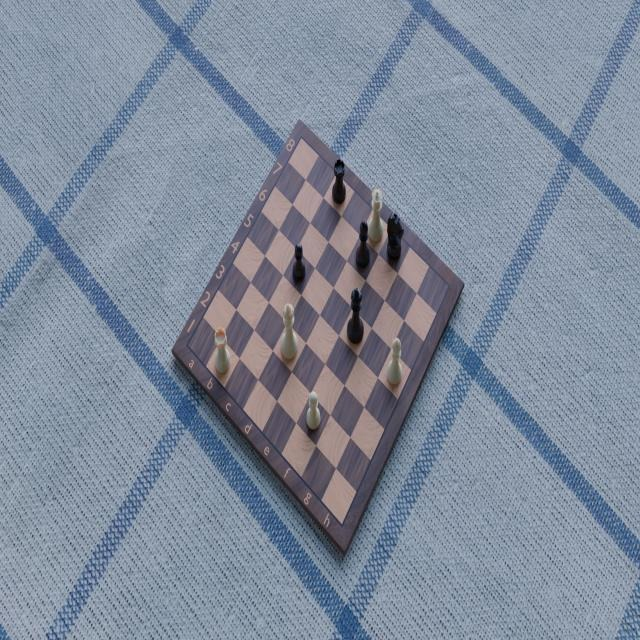black-bishop: (354, 219, 371, 272)
black-king: (346, 286, 366, 346)
black-knight: (385, 208, 405, 264)
black-pawn: (291, 240, 307, 283)
black-rook: (332, 157, 348, 207)
white-bishop: (387, 335, 405, 389)
white-king: (279, 302, 299, 362)
white-pawn: (305, 389, 322, 434)
white-queen: (365, 188, 384, 248)
white-rook: (213, 326, 231, 378)
